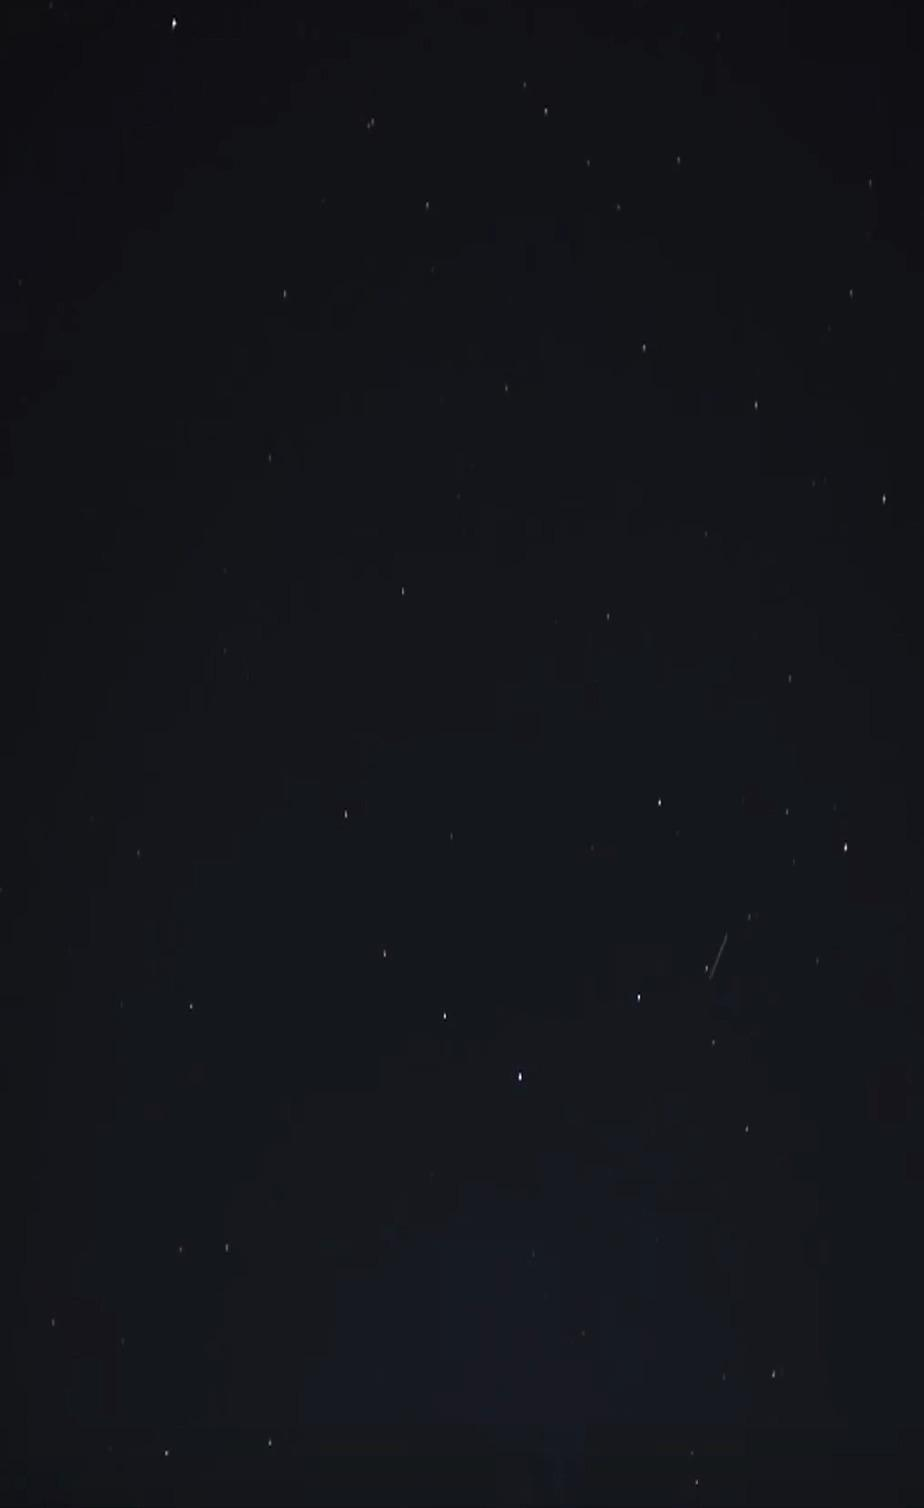meteorite: (683, 923, 755, 987)
